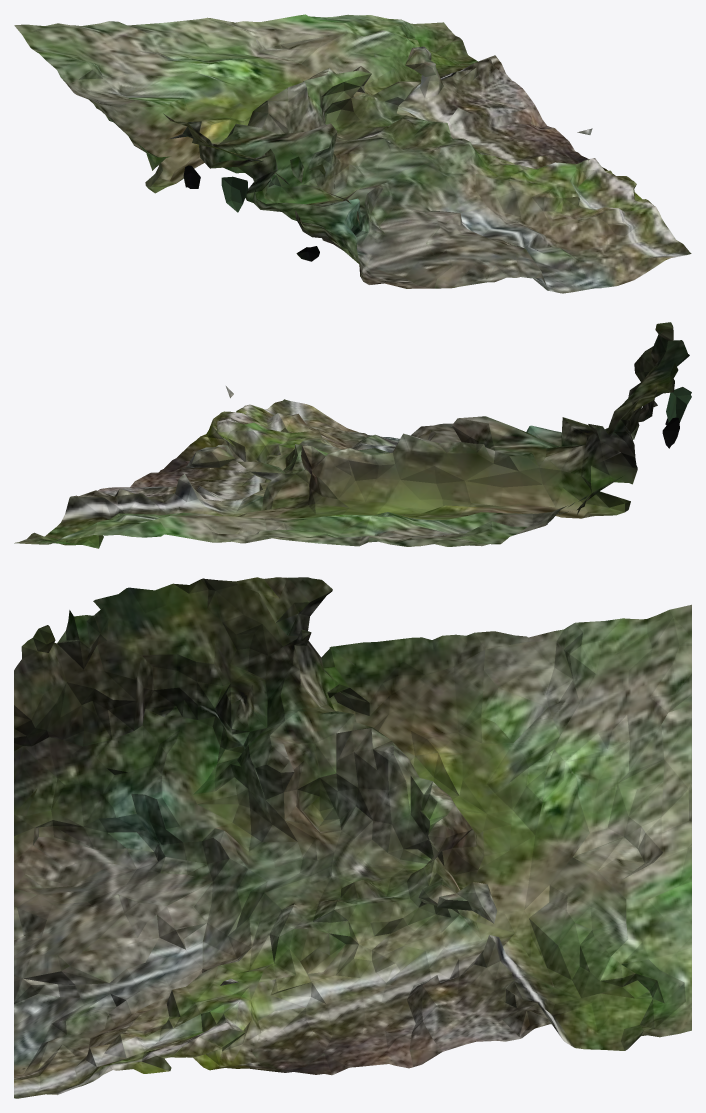
The picture shows the model from 3 angles, top to bottom: view 1: azimuth 30°, elevation 25°; view 2: azimuth 150°, elevation 25°; view 3: azimuth 270°, elevation 25°; orthographic projection. The views are drawn at different scales.
Bounding box in the file's own units: 6.7 × 2.77 × 6.7.
3 materials, 3 textured.
